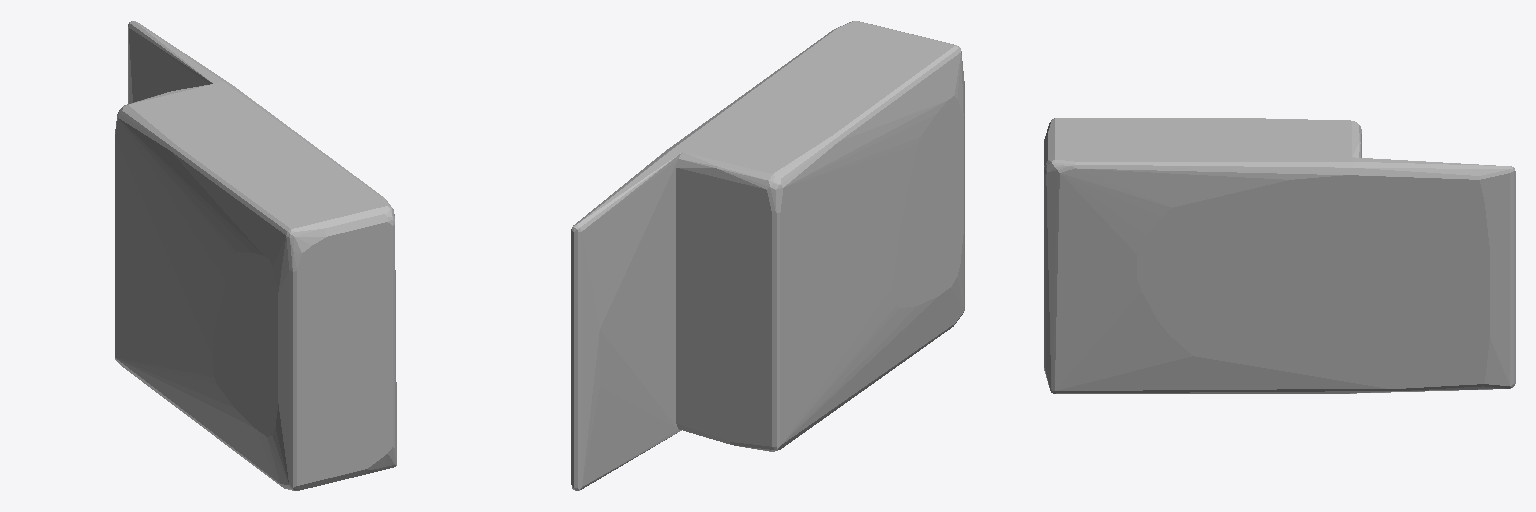
URDF robot description (root):
<robot name="root">
  <link name="link_coacd_convex_piece_0">
    <inertial>
      <origin xyz="0 0 0" rpy="0 0 0"/>
      <inertia ixx="2.14E-02" ixy="1.04E-05" ixz="-3.23E-04" iyy="1.82E-02" iyz="3.41E-05" izz="9.71E-03"/>
    </inertial>
    <visual>
      <origin xyz="0 0 0" rpy="0 0 0"/>
      <geometry>
        <mesh filename="coacd_convex_piece_0.obj" scale="1.0000E+00 1.0000E+00 1.0000E+00"/>
      </geometry>
      <material name="">
        <color rgba="7.50E-01 7.50E-01 7.50E-01 1"/>
      </material>
    </visual>
    <collision>
      <origin xyz="0 0 0" rpy="0 0 0"/>
      <geometry>
        <mesh filename="coacd_convex_piece_0.obj" scale="1.0000E+00 1.0000E+00 1.0000E+00"/>
      </geometry>
    </collision>
  </link>
  <link name="link_coacd_convex_piece_1">
    <inertial>
      <origin xyz="0 0 0" rpy="0 0 0"/>
      <inertia ixx="6.81E-02" ixy="-1.17E-05" ixz="-4.10E-03" iyy="4.78E-02" iyz="1.19E-05" izz="2.85E-02"/>
    </inertial>
    <visual>
      <origin xyz="0 0 0" rpy="0 0 0"/>
      <geometry>
        <mesh filename="coacd_convex_piece_1.obj" scale="1.0000E+00 1.0000E+00 1.0000E+00"/>
      </geometry>
      <material name="">
        <color rgba="7.50E-01 7.50E-01 7.50E-01 1"/>
      </material>
    </visual>
    <collision>
      <origin xyz="0 0 0" rpy="0 0 0"/>
      <geometry>
        <mesh filename="coacd_convex_piece_1.obj" scale="1.0000E+00 1.0000E+00 1.0000E+00"/>
      </geometry>
    </collision>
  </link>
  <joint name="link_coacd_convex_piece_1_joint" type="fixed">
    <origin xyz="0 0 0" rpy="0 0 0"/>
    <parent link="link_coacd_convex_piece_0"/>
    <child link="link_coacd_convex_piece_1"/>
  </joint>
</robot>

--- What the picture shows (computed from the rendered views, not written in the file) ---
The picture shows the robot from 3 angles, left to right: view 1: azimuth 30°, elevation 25°; view 2: azimuth 150°, elevation 25°; view 3: azimuth 270°, elevation 25°; orthographic projection.
Robot: root — 2 links, 1 joints (1 fixed); root link link_coacd_convex_piece_0; default pose: all joints at 0.
Visible links, largest first — view 1: link_coacd_convex_piece_1, link_coacd_convex_piece_0; view 2: link_coacd_convex_piece_1, link_coacd_convex_piece_0; view 3: link_coacd_convex_piece_0, link_coacd_convex_piece_1.
Link boxes in pixels (x1,y1,x2,y2): link_coacd_convex_piece_1: [115, 84, 387, 490]; link_coacd_convex_piece_0: [128, 21, 396, 469]; link_coacd_convex_piece_1: [676, 22, 964, 451]; link_coacd_convex_piece_0: [571, 21, 859, 490]; link_coacd_convex_piece_0: [1044, 157, 1515, 393]; link_coacd_convex_piece_1: [1044, 118, 1361, 166].
Size in the robot's own frame: 0.4487 by 1.72 by 0.9349 metres.
2 mesh visuals loaded from 2 distinct referenced files (2 OBJ).
